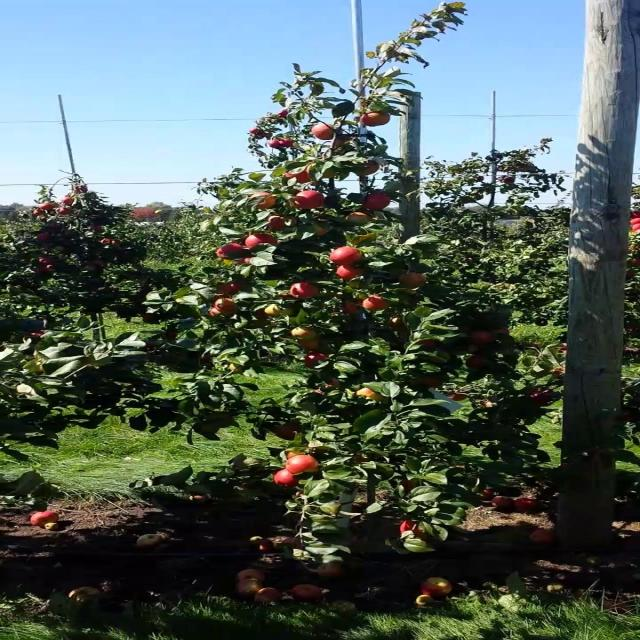apple: (291, 456, 320, 475), (333, 248, 363, 264), (298, 192, 327, 208), (362, 112, 391, 128), (362, 296, 391, 312), (276, 468, 299, 488), (276, 424, 302, 440), (404, 520, 427, 538), (291, 284, 320, 298), (220, 244, 245, 259), (397, 276, 427, 288), (312, 124, 334, 140), (255, 192, 277, 208), (248, 236, 277, 248), (468, 332, 496, 344), (369, 196, 391, 211), (269, 216, 290, 231), (532, 388, 553, 403), (212, 300, 238, 312), (362, 388, 386, 401), (291, 328, 318, 339), (532, 392, 553, 406), (419, 376, 443, 388), (340, 268, 363, 280), (333, 136, 356, 148), (220, 284, 242, 296), (291, 172, 313, 184), (348, 212, 370, 224), (305, 356, 327, 367), (319, 380, 341, 391), (305, 340, 324, 352), (269, 308, 297, 316), (468, 356, 485, 369), (362, 164, 380, 176), (220, 300, 238, 312), (404, 480, 420, 491), (348, 304, 363, 315), (454, 392, 469, 403), (390, 316, 405, 327), (419, 340, 439, 348), (28, 332, 46, 340), (355, 456, 372, 464), (326, 380, 341, 389), (255, 312, 270, 320), (326, 168, 336, 179), (497, 328, 512, 335), (241, 256, 254, 264), (554, 368, 565, 377), (284, 140, 297, 147), (483, 400, 492, 408), (319, 228, 327, 236), (170, 332, 178, 339), (236, 366, 240, 372)
